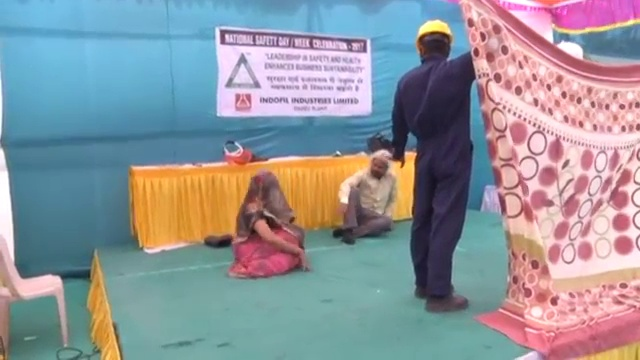helmet: (415, 18, 453, 42)
helmet_off: (251, 170, 277, 193), (370, 152, 389, 178)
helmet_on: (413, 18, 454, 66)
person: (386, 18, 478, 315), (229, 171, 308, 282), (336, 150, 399, 245)
